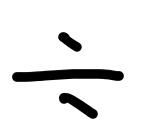div: (12, 32, 124, 119)
